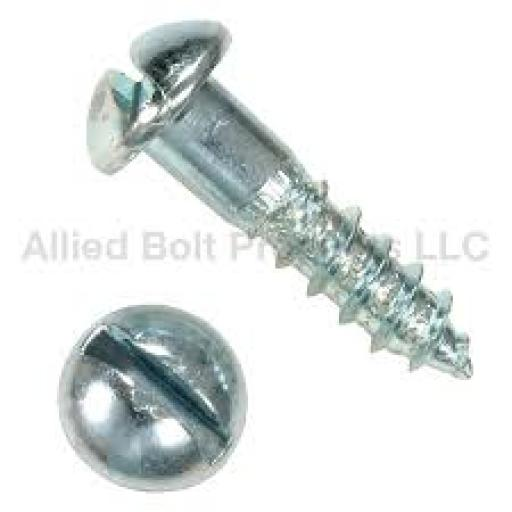Slotted: (56, 302, 255, 497)
